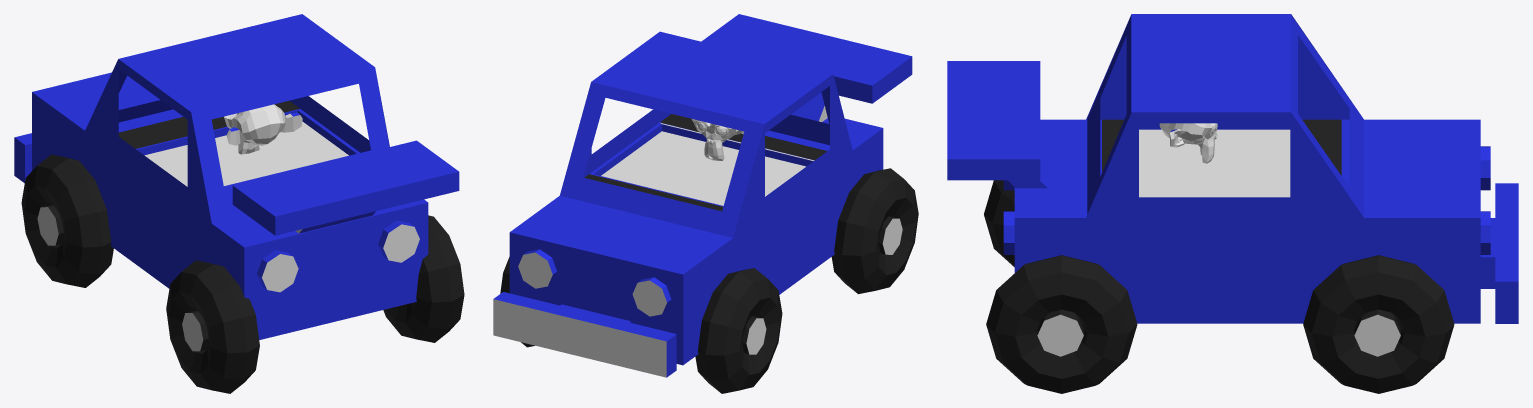
The model's file is car_blue.glb.
The picture shows the model from 3 angles, left to right: view 1: azimuth 30°, elevation 25°; view 2: azimuth 150°, elevation 25°; view 3: azimuth 270°, elevation 25°; orthographic projection. The views are drawn at different scales.
Visible parts, largest first — view 1: Car, LD, LU, RD; view 2: Car, LU, LD; view 3: Car, RU, RD, LD.
Boxes of the visible parts, left/top/right/bottom form: Car: left=14, top=14, right=459, bottom=339; LD: left=166, top=260, right=259, bottom=393; LU: left=21, top=154, right=113, bottom=287; RD: left=383, top=215, right=464, bottom=342; Car: left=493, top=14, right=912, bottom=377; LU: left=695, top=268, right=782, bottom=393; LD: left=831, top=168, right=918, bottom=294; Car: left=947, top=14, right=1518, bottom=323; RU: left=1303, top=255, right=1454, bottom=393; RD: left=986, top=255, right=1137, bottom=393; LD: left=984, top=180, right=1014, bottom=266.
Bounding box in the file's own units: 2.73 × 2.6 × 4.91.
